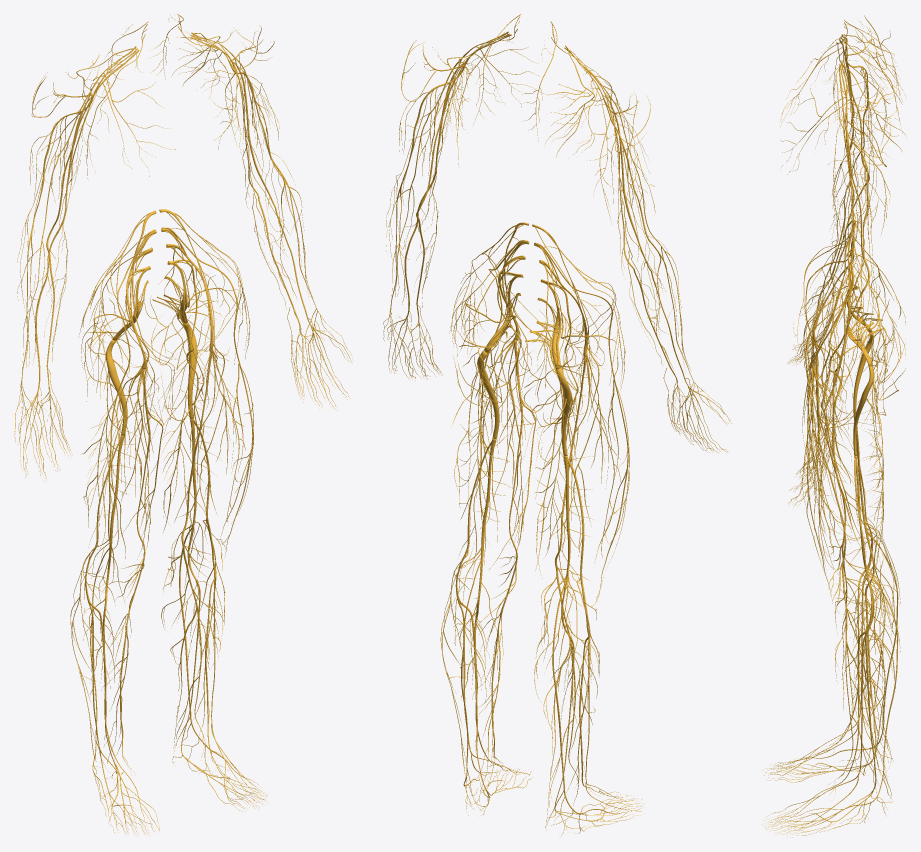
Rendered from nerves_at.glb.
The picture shows the model from 3 angles, left to right: view 1: azimuth 30°, elevation 25°; view 2: azimuth 150°, elevation 25°; view 3: azimuth 270°, elevation 25°; orthographic projection. The views are drawn at different scales.
Parts seen in each view (by area): view 1: Tibial nerve.l, Tibial nerve.r, Lateral femoral cuteneous nerve.r, Saphenous nerve (Medial crural cutaneous branches).l, Lateral femoral cuteneous nerve.l, Saphenous nerve (Medial crural cutaneous branches).r, Muscular branches of the Femoral nerve.r, Muscular branches of the Femoral nerve.l, Schiatic nerve.l, Posterior cutaneous nerve of the thigh.l, Medial antebrachial cutaneous nerve.l, Median nerve.r (+4 smaller); view 2: Tibial nerve.l, Tibial nerve.r, Saphenous nerve (Medial crural cutaneous branches).r, Lateral femoral cuteneous nerve.r, Saphenous nerve (Medial crural cutaneous branches).l, Lateral femoral cuteneous nerve.l, Posterior cutaneous nerve of the thigh.r, Posterior cutaneous nerve of the thigh.l, Muscular branches of the Femoral nerve.r, Common fibular nerve.r, Superior clunial nerve (posterior rami).r, Lateral sural cutaneous nerve.r (+5 smaller); view 3: Tibial nerve.r, Tibial nerve.l, Saphenous nerve (Medial crural cutaneous branches).l, Lateral femoral cuteneous nerve.l, Saphenous nerve (Medial crural cutaneous branches).r, Lateral sural cutaneous nerve.l, Lateral femoral cuteneous nerve.r, Lateral sural cutaneous nerve.r, Medial antebrachial cutaneous nerve.l, Common fibular nerve.l, Posterior cutaneous nerve of the thigh.l, Muscular branches of the Femoral nerve.l (+31 smaller).
Boxes of the visible parts, bbox=[...] form: Tibial nerve.l: bbox=[152, 263, 209, 746]; Tibial nerve.r: bbox=[81, 268, 150, 763]; Lateral femoral cuteneous nerve.r: bbox=[82, 230, 155, 582]; Saphenous nerve (Medial crural cutaneous branches).l: bbox=[161, 536, 223, 756]; Lateral femoral cuteneous nerve.l: bbox=[161, 227, 253, 556]; Saphenous nerve (Medial crural cutaneous branches).r: bbox=[103, 546, 145, 775]; Muscular branches of the Femoral nerve.r: bbox=[100, 360, 161, 550]; Muscular branches of the Femoral nerve.l: bbox=[191, 343, 245, 521]; Schiatic nerve.l: bbox=[170, 322, 200, 419]; Posterior cutaneous nerve of the thigh.l: bbox=[153, 296, 221, 521]; Medial antebrachial cutaneous nerve.l: bbox=[235, 66, 293, 308]; Median nerve.r: bbox=[35, 102, 87, 396]; Tibial nerve.l: bbox=[450, 276, 523, 789]; Tibial nerve.r: bbox=[525, 283, 585, 806]; Saphenous nerve (Medial crural cutaneous branches).r: bbox=[534, 560, 598, 821]; Lateral femoral cuteneous nerve.r: bbox=[534, 242, 629, 586]; Saphenous nerve (Medial crural cutaneous branches).l: bbox=[473, 551, 517, 801]; Lateral femoral cuteneous nerve.l: bbox=[452, 240, 528, 564]; Posterior cutaneous nerve of the thigh.r: bbox=[527, 323, 593, 591]; Posterior cutaneous nerve of the thigh.l: bbox=[458, 318, 515, 565]; Muscular branches of the Femoral nerve.r: bbox=[567, 346, 620, 558]; Common fibular nerve.r: bbox=[529, 284, 588, 626]; Superior clunial nerve (posterior rami).r: bbox=[532, 226, 605, 374]; Lateral sural cutaneous nerve.r: bbox=[566, 577, 603, 805]; Tibial nerve.r: bbox=[847, 278, 899, 755]; Tibial nerve.l: bbox=[847, 293, 894, 789]; Saphenous nerve (Medial crural cutaneous branches).l: bbox=[828, 558, 898, 792]; Lateral femoral cuteneous nerve.l: bbox=[802, 242, 853, 600]; Saphenous nerve (Medial crural cutaneous branches).r: bbox=[829, 539, 898, 762]; Lateral sural cutaneous nerve.l: bbox=[835, 576, 895, 792]; Lateral femoral cuteneous nerve.r: bbox=[802, 237, 853, 545]; Lateral sural cutaneous nerve.r: bbox=[837, 520, 895, 741]; Medial antebrachial cutaneous nerve.l: bbox=[826, 118, 868, 397]; Common fibular nerve.l: bbox=[847, 283, 873, 623]; Posterior cutaneous nerve of the thigh.l: bbox=[860, 321, 883, 585]; Muscular branches of the Femoral nerve.l: bbox=[810, 365, 833, 569].
Bounding box in the file's own units: 0.6695 × 1.47 × 0.2503.
